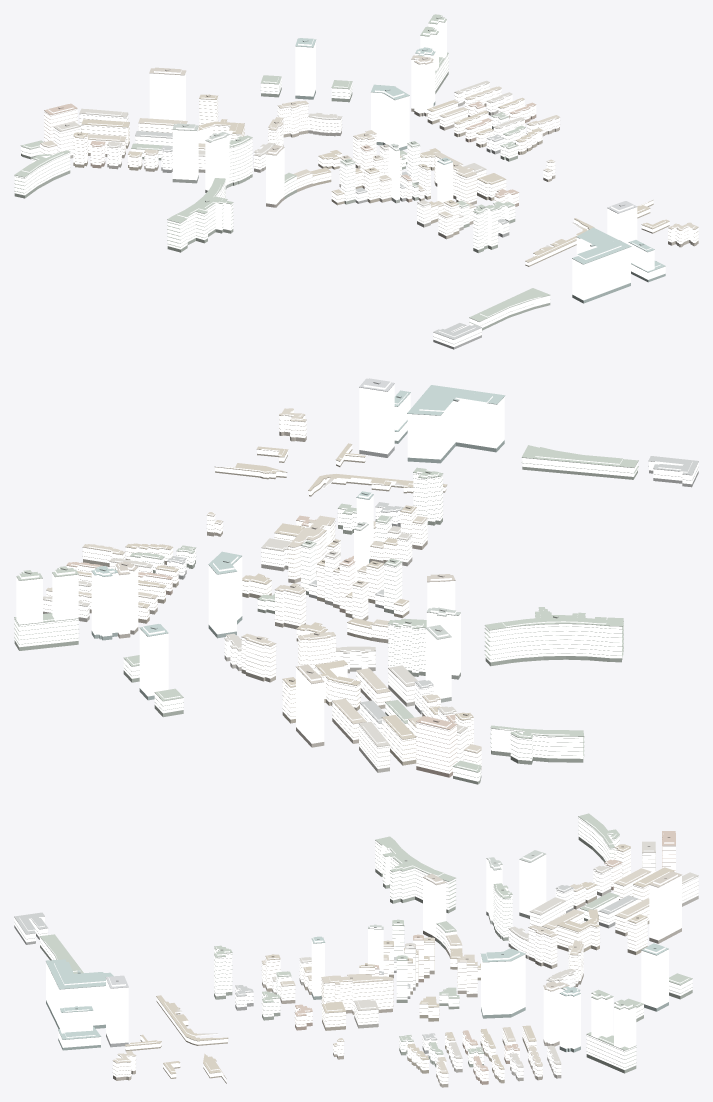
Rendered from buildings-0_1-fine.glb.
3 views of the same model, one above another, from view 1: azimuth 30°, elevation 25°; view 2: azimuth 150°, elevation 25°; view 3: azimuth 270°, elevation 25° (orthographic). The views are drawn at different scales.
Parts seen in each view (by area): view 1: block_0_1_residential, block_0_1_office, block_0_1_roof, block_0_1_darkglass, block_0_1_concrete; view 2: block_0_1_residential, block_0_1_office, block_0_1_roof, block_0_1_darkglass, block_0_1_concrete; view 3: block_0_1_residential, block_0_1_office, block_0_1_roof, block_0_1_darkglass, block_0_1_concrete, block_0_1_steel.
Boxes of the visible parts, box(x1,y1,x2,y2) form: block_0_1_residential: box(14, 54, 698, 346); block_0_1_office: box(149, 15, 665, 300); block_0_1_roof: box(14, 14, 698, 343); block_0_1_darkglass: box(14, 71, 698, 349); block_0_1_concrete: box(14, 53, 698, 343); block_0_1_residential: box(14, 410, 698, 781); block_0_1_office: box(16, 382, 504, 743); block_0_1_roof: box(14, 378, 698, 777); block_0_1_darkglass: box(14, 430, 698, 784); block_0_1_concrete: box(14, 415, 698, 777); block_0_1_residential: box(14, 817, 698, 1084); block_0_1_office: box(46, 853, 681, 1067); block_0_1_roof: box(14, 813, 698, 1084); block_0_1_darkglass: box(14, 837, 698, 1087); block_0_1_concrete: box(14, 816, 698, 1081); block_0_1_steel: box(46, 854, 681, 1039).
Size of the model in its own units: 551 by 66.49 by 635.
